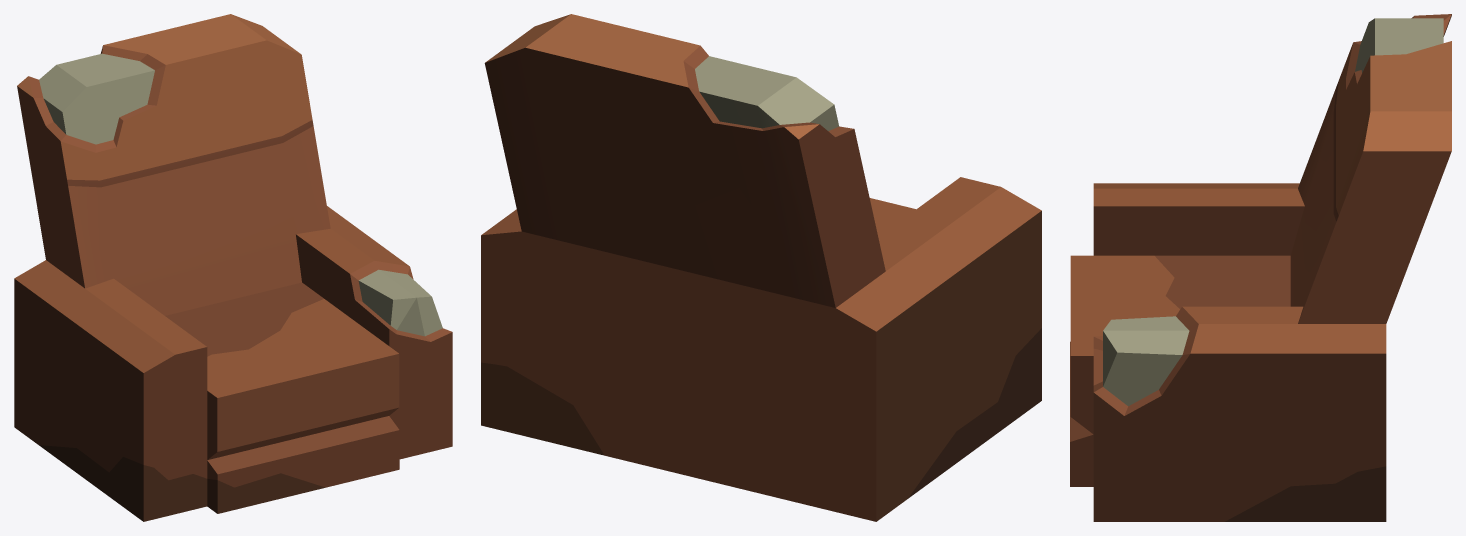
File: AI_Prop_Chair_Damaged_03.fbx
3 views of the same model, side by side, from view 1: azimuth 30°, elevation 25°; view 2: azimuth 150°, elevation 25°; view 3: azimuth 270°, elevation 25° (orthographic). The views are drawn at different scales.
Parts seen in each view (by area): view 1: AI_Prop_Chair_Damaged_03; view 2: AI_Prop_Chair_Damaged_03; view 3: AI_Prop_Chair_Damaged_03.
Boxes of the visible parts, x1,y1,x2,y2 form: AI_Prop_Chair_Damaged_03: (14, 14, 452, 521); AI_Prop_Chair_Damaged_03: (481, 14, 1041, 521); AI_Prop_Chair_Damaged_03: (1070, 14, 1451, 521).
Bounding box in the file's own units: 2.21 × 2.27 × 2.09.
